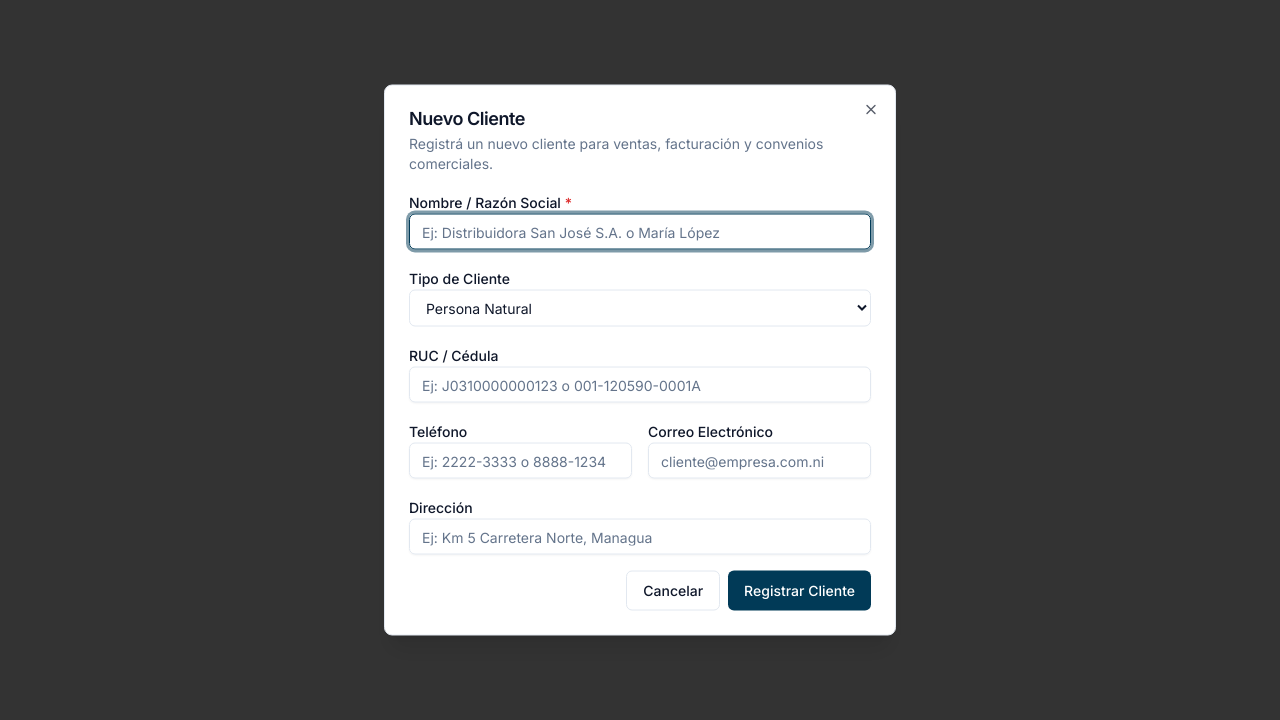
Test: Customers CRUD & Convenio Integration › CustomerDialog shows validation error when name is empty or email is invalid
Click the button "Registrar Cliente" at (800, 590), box [728, 570, 871, 610]
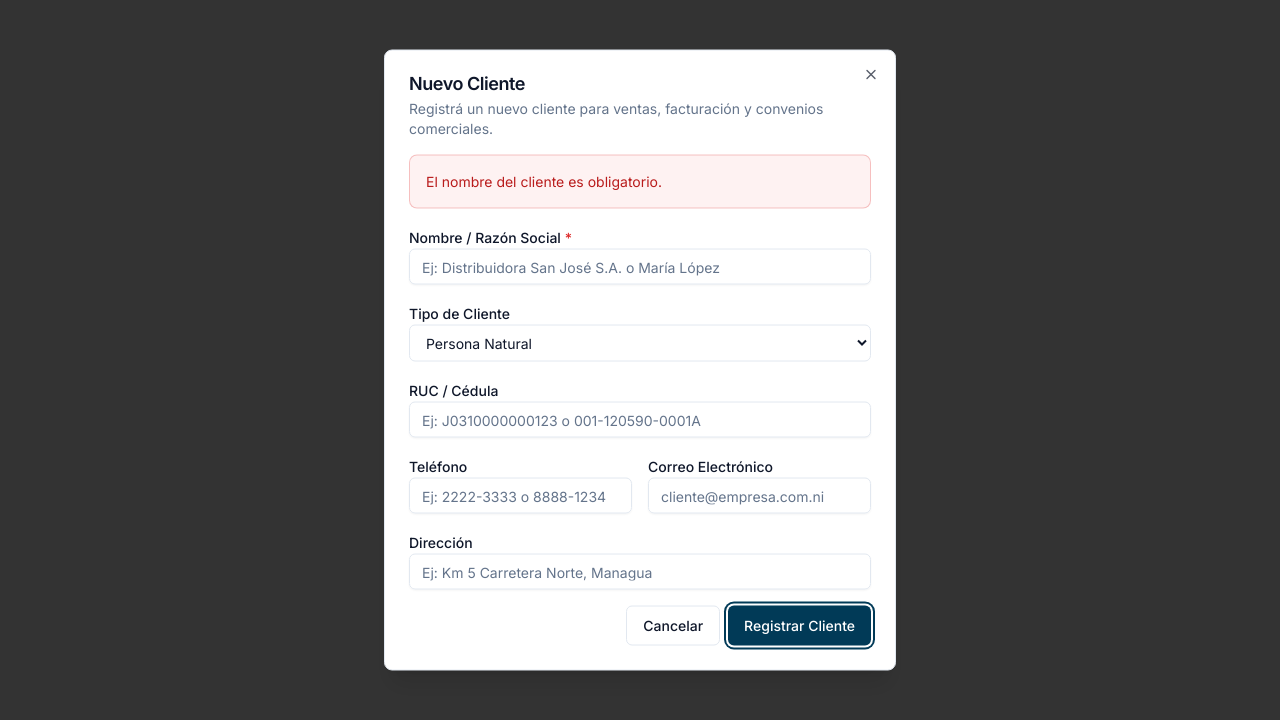
Result: the text "El nombre del cliente es obligatorio." is shown at [426, 172, 662, 190]
Type "Cliente Válido" into the field labelled "Nombre / Razón Social *" at (640, 266), box [409, 248, 871, 284]
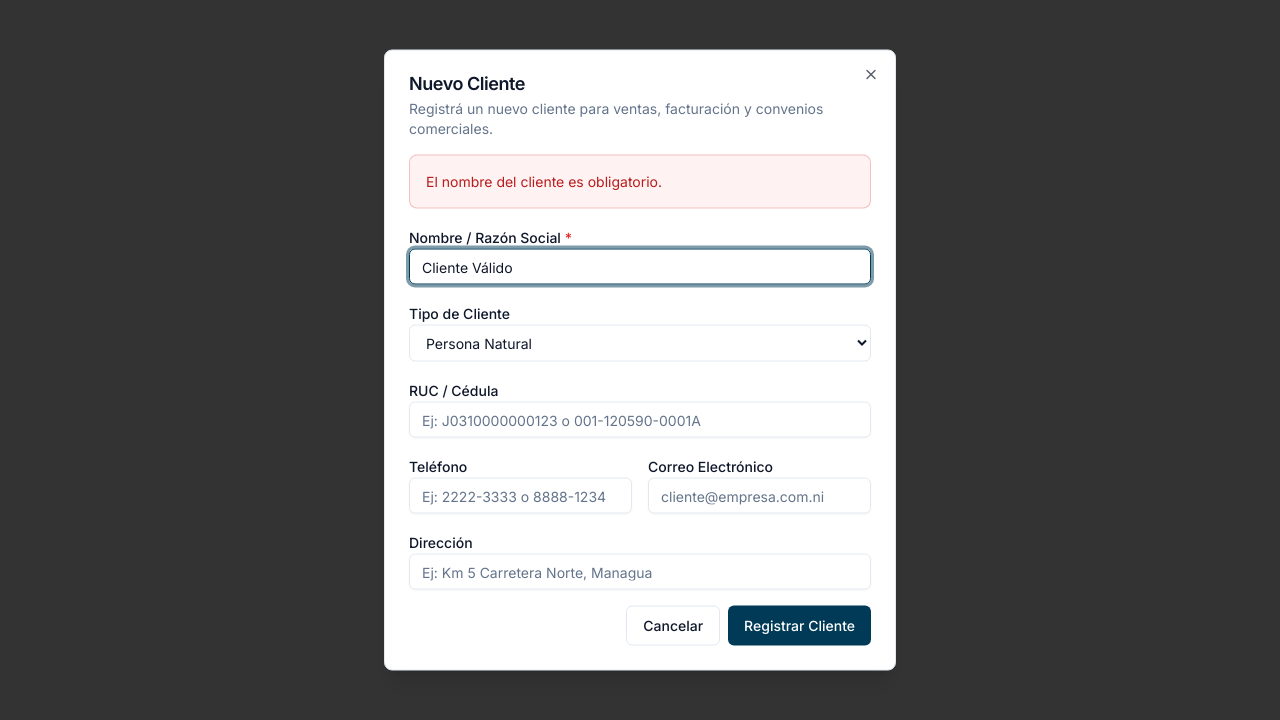
Type "correo-invalido" into the field labelled "Correo Electrónico" at (760, 496), box [648, 478, 871, 514]
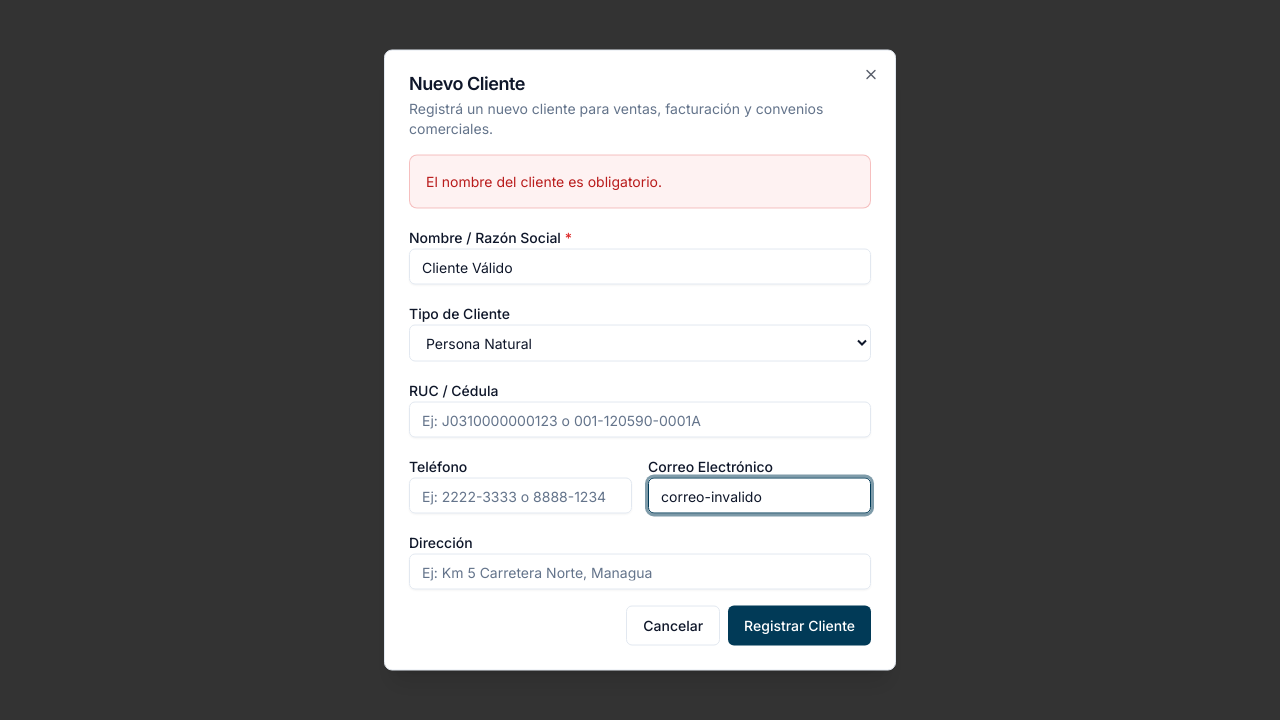
Click the button "Registrar Cliente" at (800, 626), box [728, 606, 871, 646]
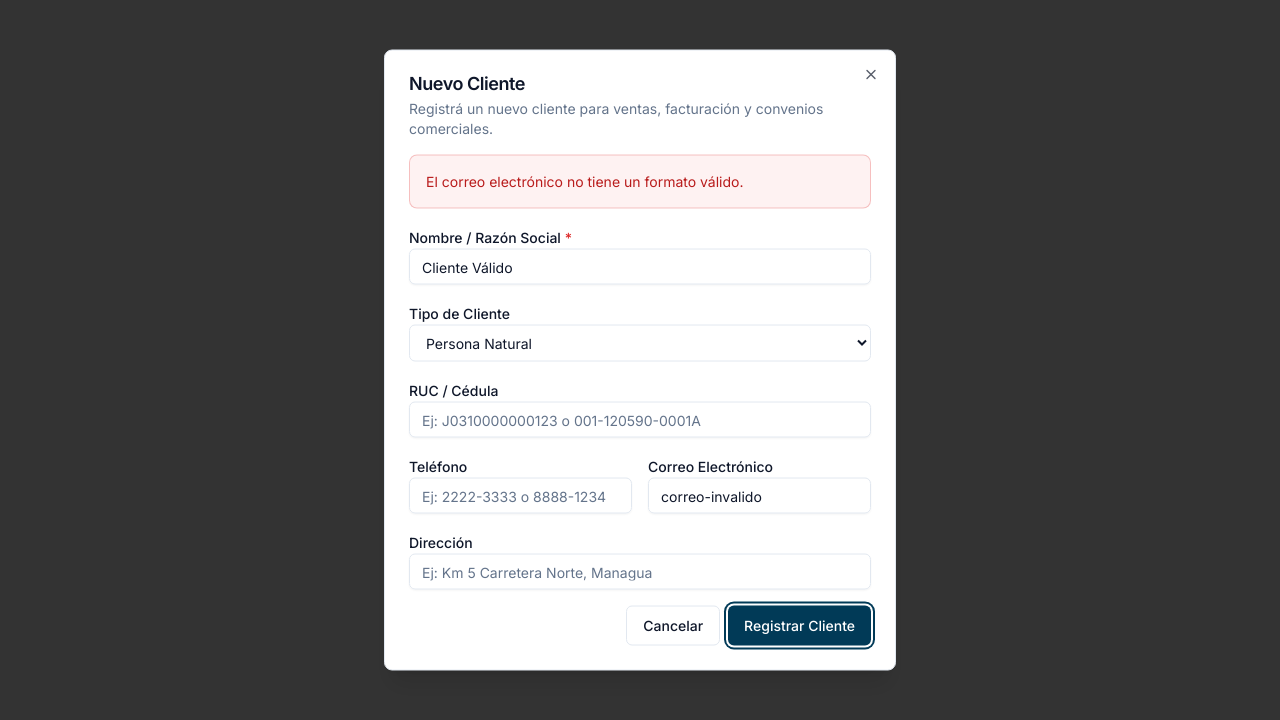
Result: the text "El correo electrónico no tiene un formato válido." is shown at [426, 172, 744, 190]
